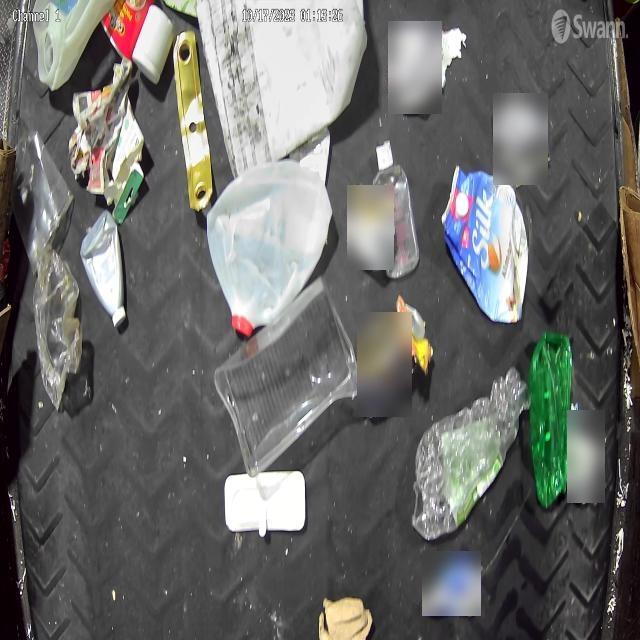milk_jug: (207, 163, 333, 338), (32, 0, 115, 91)
non_white_jug: (442, 168, 528, 323)
